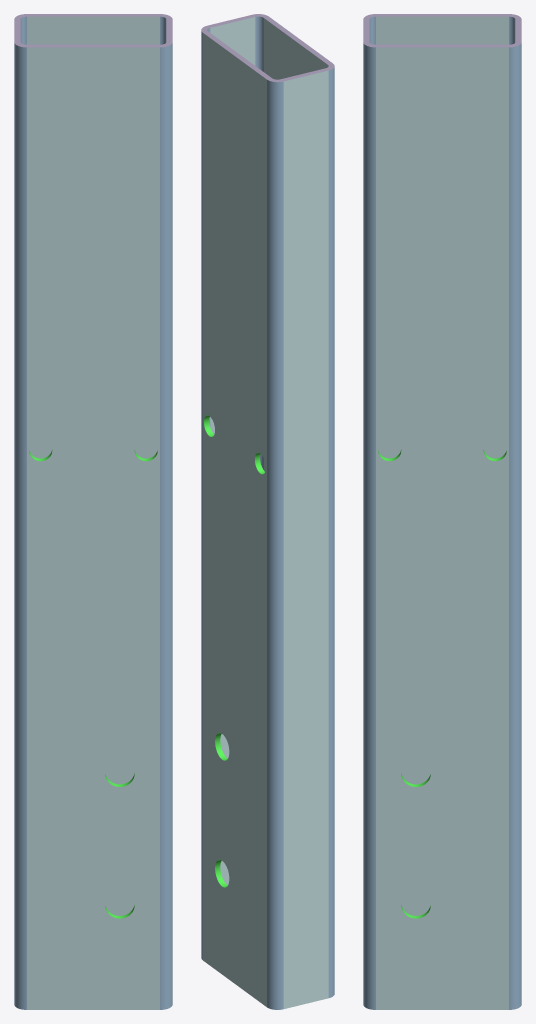
File: RIM0151-WTT10073-035_0-1-1-1_1_colored.glb
3 renders of one model, left to right at view 1: azimuth 90°, elevation 25°; view 2: azimuth 210°, elevation 25°; view 3: azimuth 270°, elevation 25°, orthographic. The views are drawn at different scales.
Visible parts, largest first — view 1: Featured solid; view 2: Featured solid; view 3: Featured solid.
Boxes of the visible parts, bbox=[...] form: Featured solid: bbox=[14, 14, 172, 1009]; Featured solid: bbox=[201, 14, 334, 1009]; Featured solid: bbox=[363, 14, 521, 1009].
Bounding box in the file's own units: 38.1 × 511 × 76.2.
